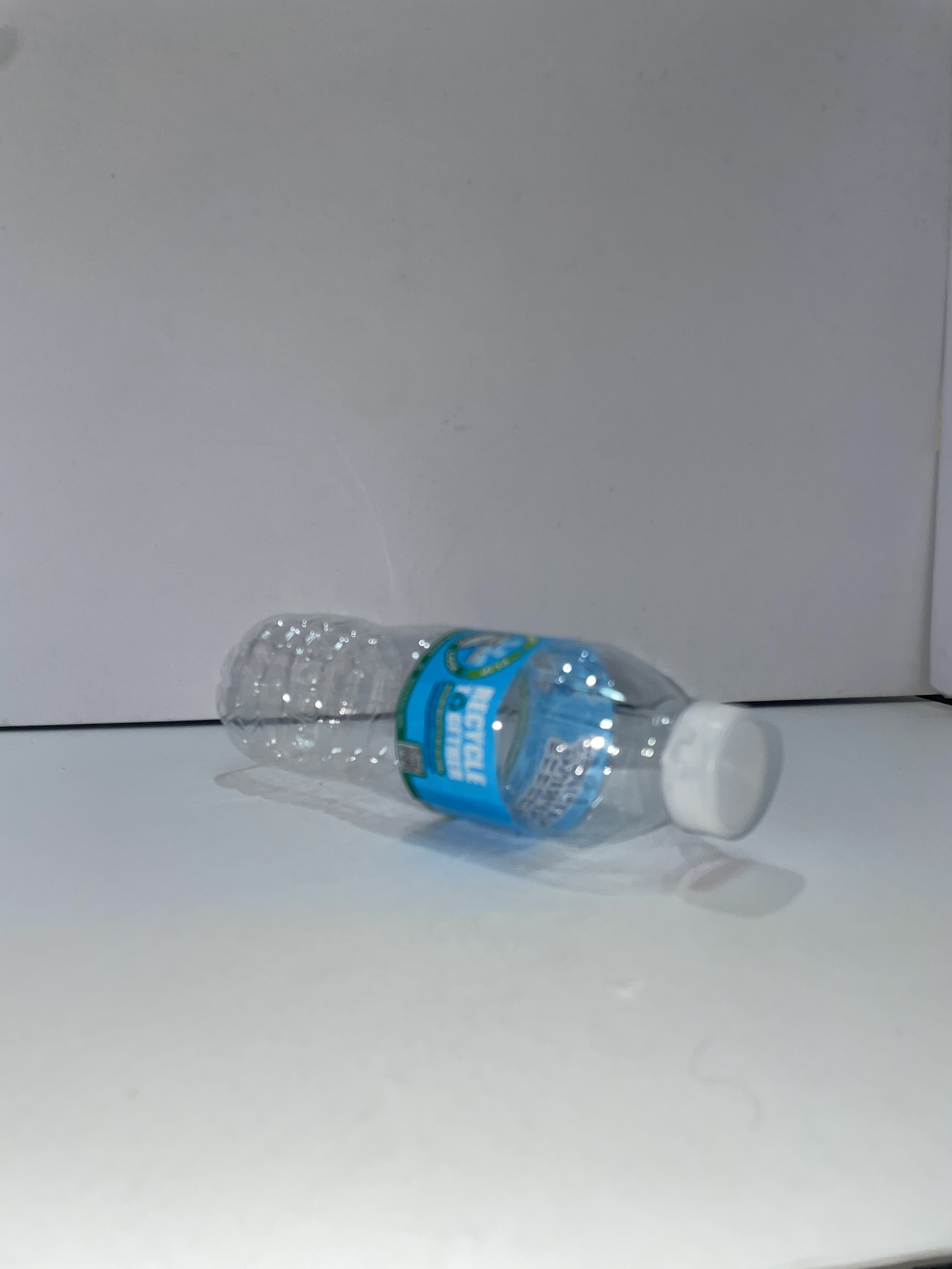natures spring 500ml: (218, 613, 772, 839)
